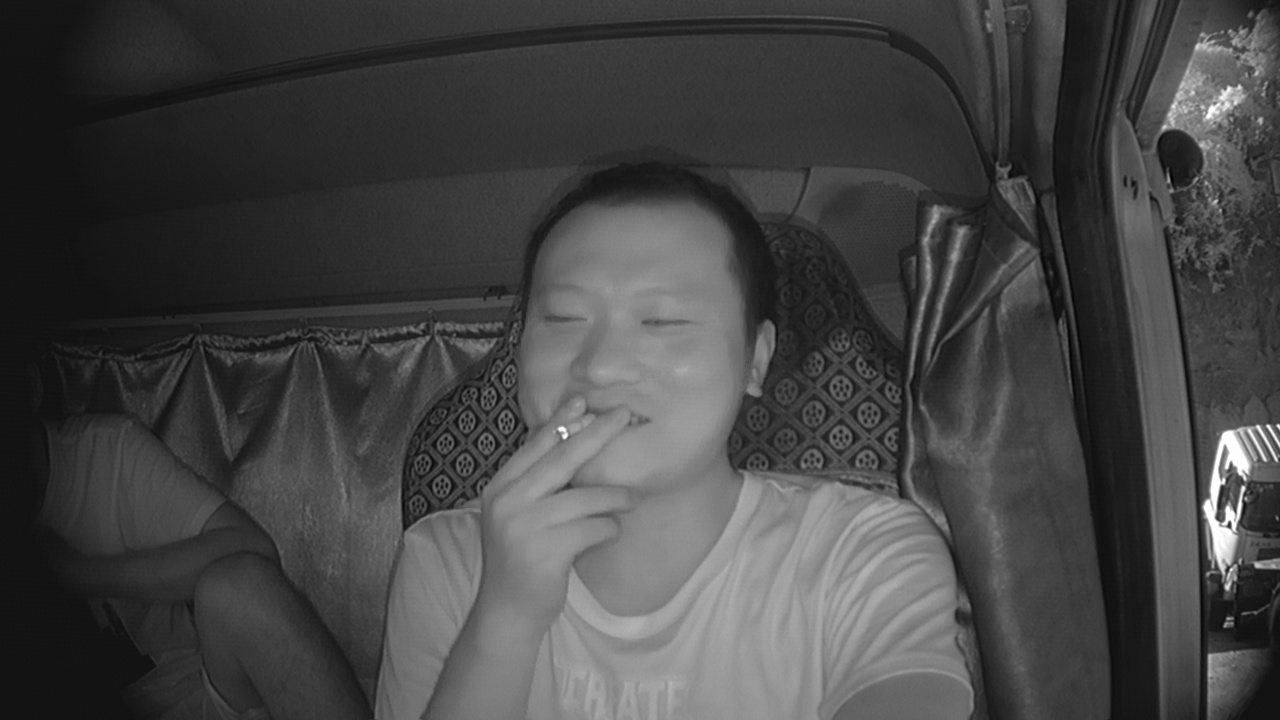hand: (482, 399, 635, 566)
